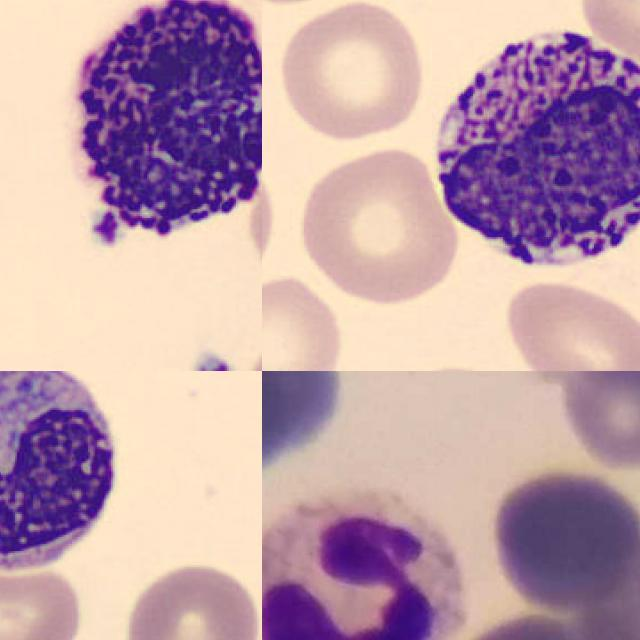Basophil: (423, 13, 640, 288), (45, 0, 262, 272)
Monocyte: (0, 371, 130, 579)
Neutrophil: (262, 494, 465, 640)
Platelets: (186, 350, 241, 371)
RBC: (292, 140, 464, 308), (272, 0, 430, 143), (499, 279, 640, 371), (118, 556, 262, 640), (262, 272, 347, 371), (0, 558, 84, 640), (572, 0, 640, 85), (262, 140, 279, 291)
